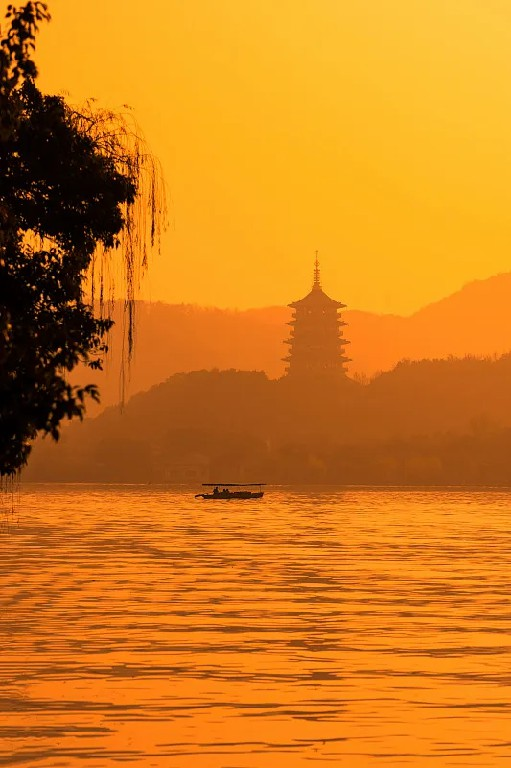Leifeng: (281, 252, 353, 384)
